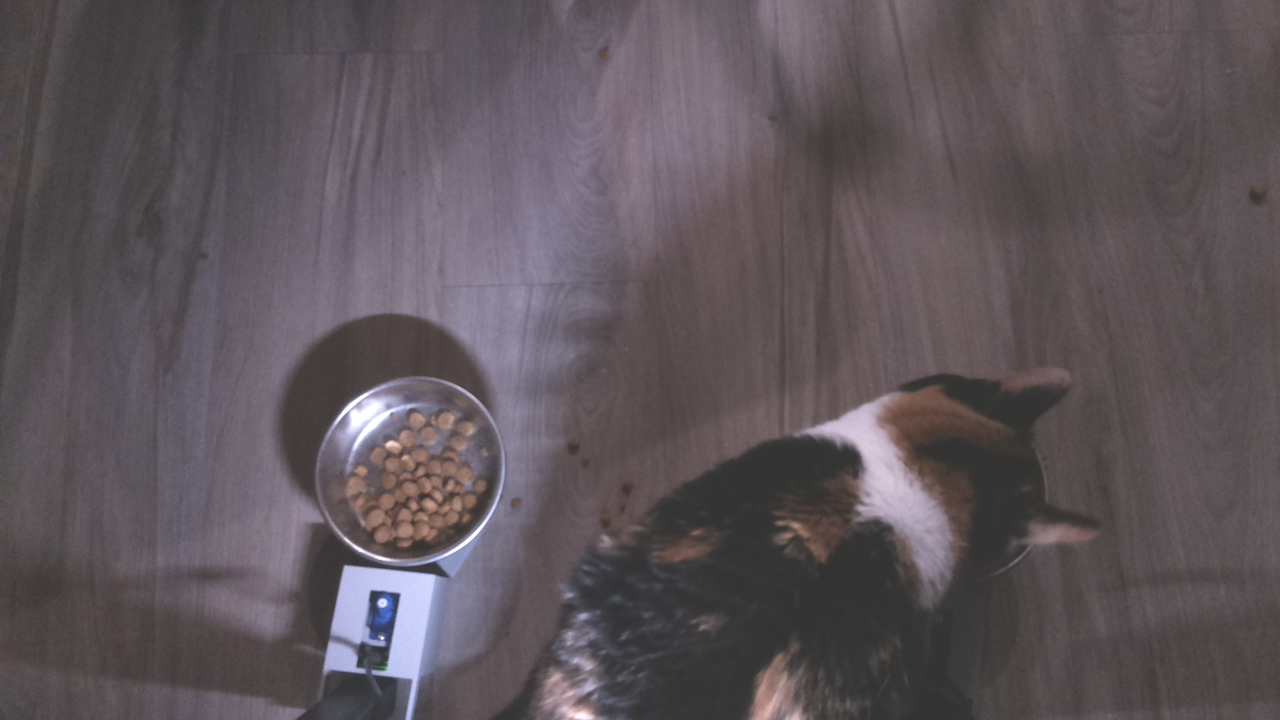bella_eating: (798, 349, 1114, 608)
open_bowl: (308, 371, 508, 571)
